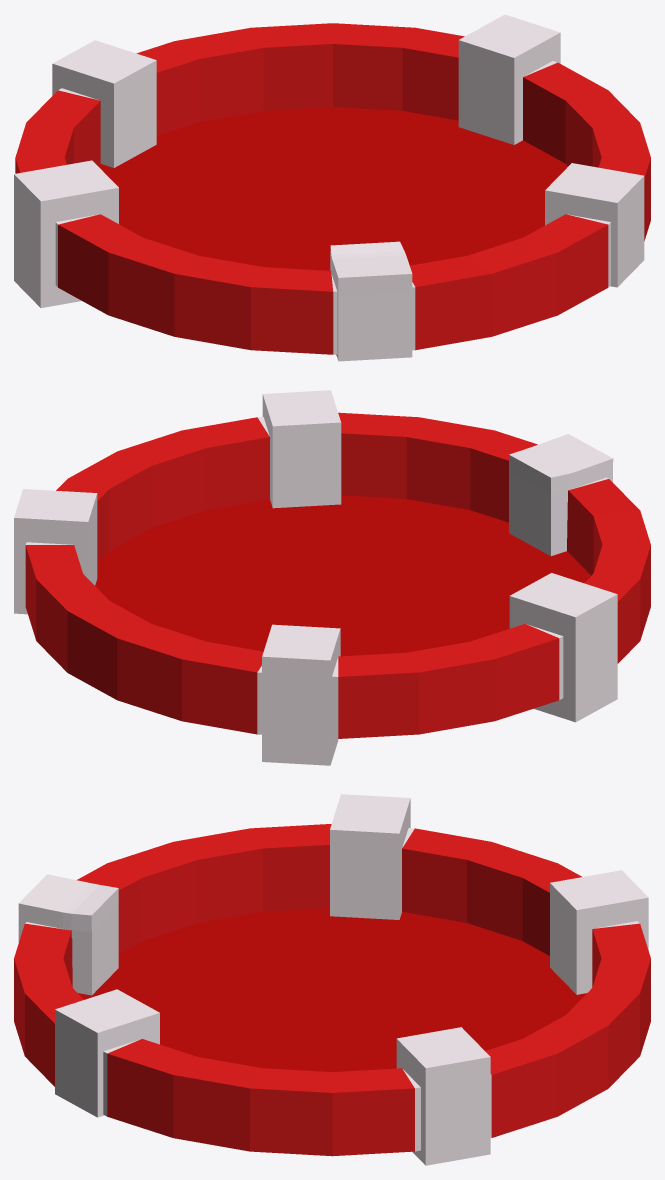
The model's file is portallllpm 1.fbx.
The picture shows the model from 3 angles, top to bottom: view 1: azimuth 30°, elevation 25°; view 2: azimuth 150°, elevation 25°; view 3: azimuth 270°, elevation 25°; orthographic projection.
Parts seen in each view (by area): view 1: Cylinder; view 2: Cylinder; view 3: Cylinder.
Boxes of the visible parts, bbox=[...] form: Cylinder: bbox=[14, 14, 650, 361]; Cylinder: bbox=[14, 390, 650, 765]; Cylinder: bbox=[14, 794, 650, 1165].
Size of the model in its own units: 599 by 111 by 585.
